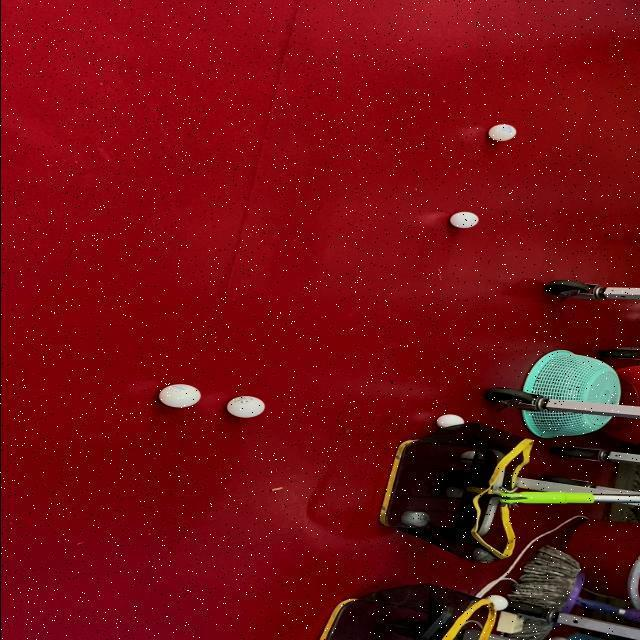ping-pong-ball: (157, 384, 202, 408), (223, 395, 266, 419), (448, 210, 481, 230), (486, 124, 518, 142), (434, 414, 466, 430), (486, 594, 510, 612)
